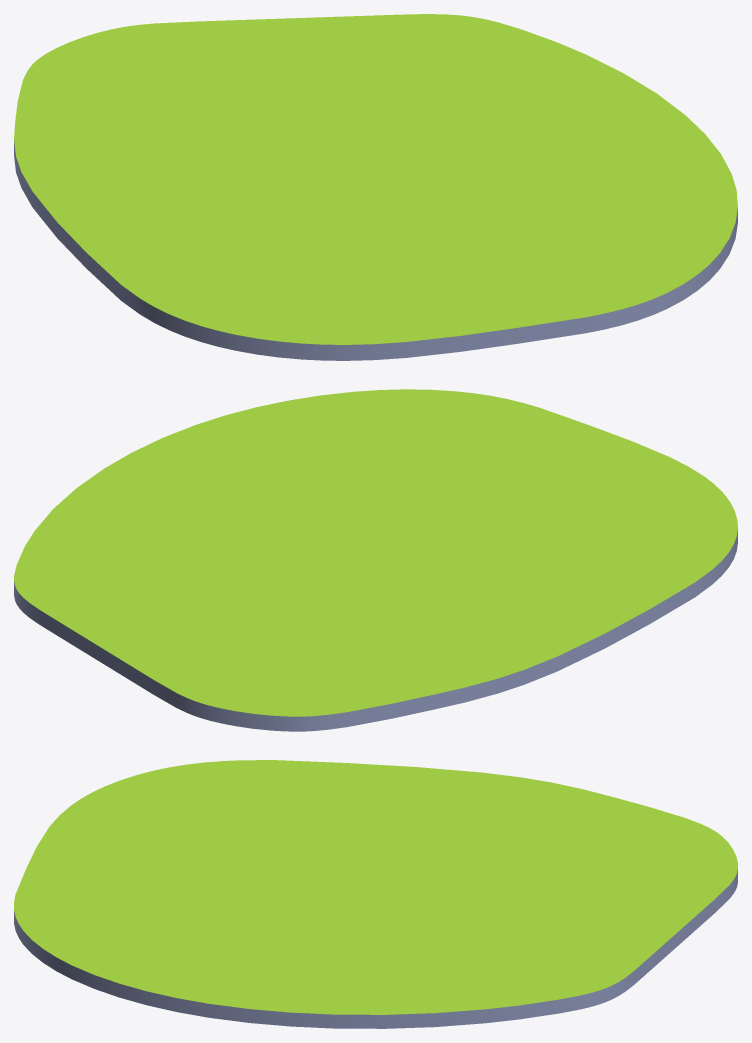
Rendered from Lastholes23.fbx.
3 renders of one model, top to bottom at view 1: azimuth 30°, elevation 25°; view 2: azimuth 150°, elevation 25°; view 3: azimuth 270°, elevation 25°, orthographic. The views are drawn at different scales.
Visible parts, largest first — view 1: mainRes_2; view 2: mainRes_2; view 3: mainRes_2.
Boxes of the visible parts, x1,y1,x2,y2 form: mainRes_2: [14, 14, 737, 360]; mainRes_2: [14, 389, 737, 731]; mainRes_2: [14, 760, 737, 1028].
Bounding box in the file's own units: 1175 × 30 × 1411.
